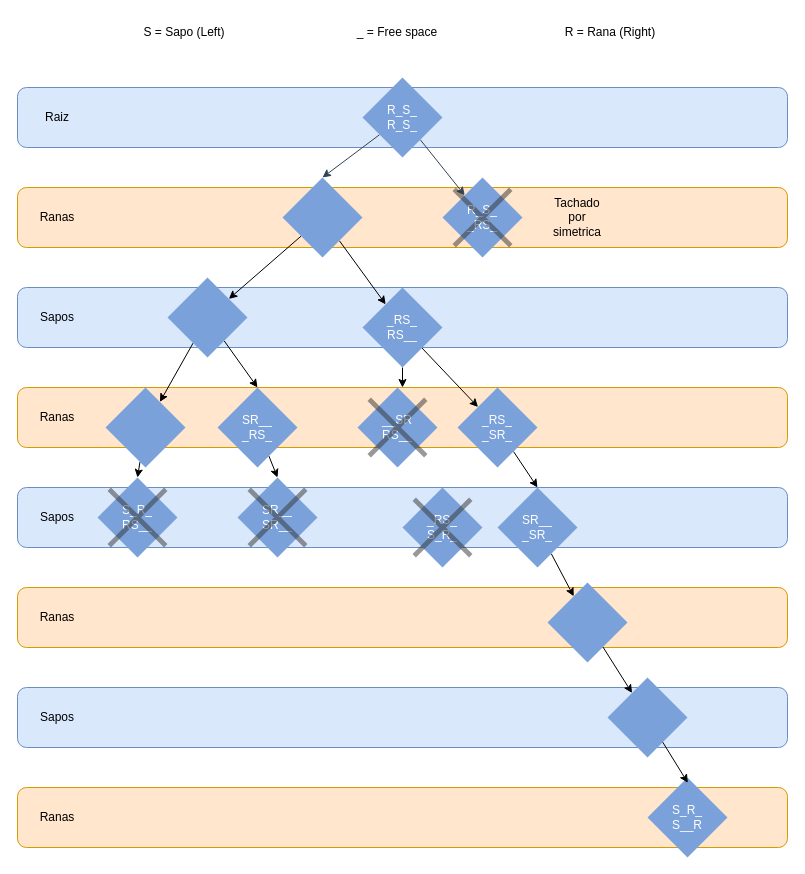
Image size: 805x874. Some labels were removed from this diagram. The box of each missing label's shape, as (x1, y1, x2, y2) in pixels:
_RS_ R_S_: (282, 177, 362, 257)
S_R_ _SR_: (547, 582, 627, 662)
S_R_ R_S_: (105, 387, 185, 467)
S_R_ S_R_: (607, 677, 687, 757)
SR__ R_S_: (167, 277, 247, 357)
